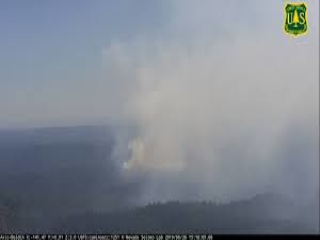smoke: (104, 57, 242, 188)
